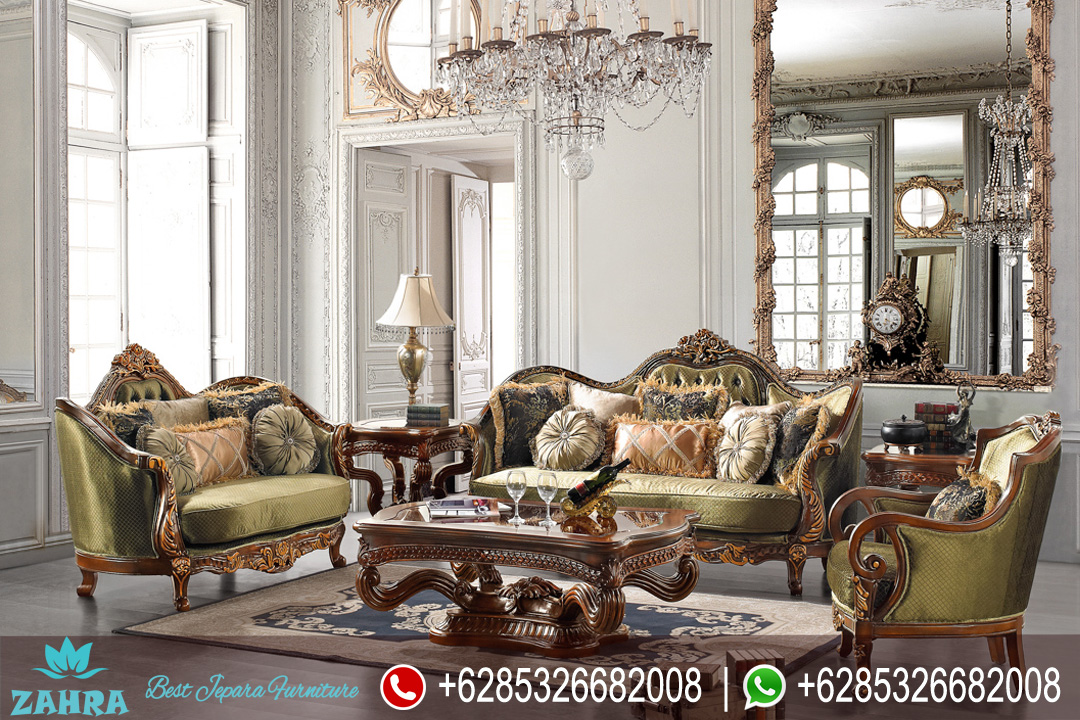Carving Chair: (45, 339, 349, 592), (840, 409, 1080, 680)
Carving Table: (371, 496, 704, 651)
